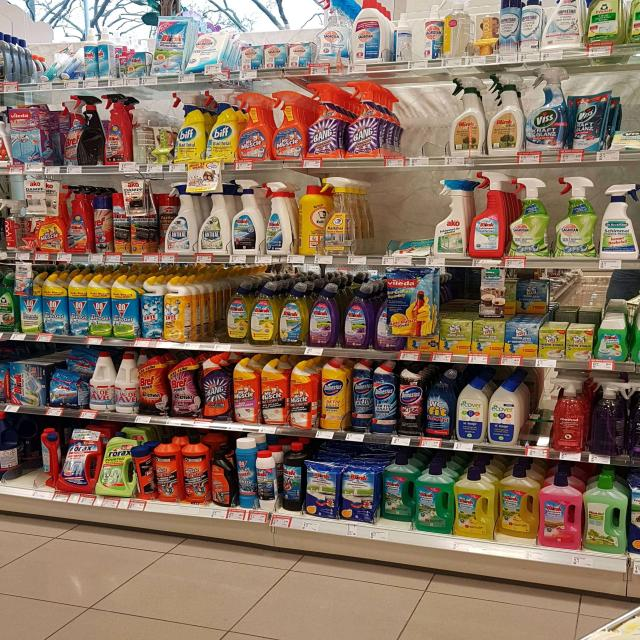void: (386, 73, 447, 158), (362, 173, 391, 261), (4, 421, 33, 490), (200, 276, 225, 346)
